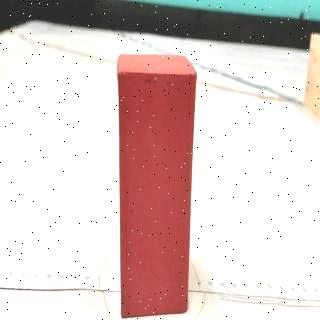redbox: (117, 54, 197, 316)
